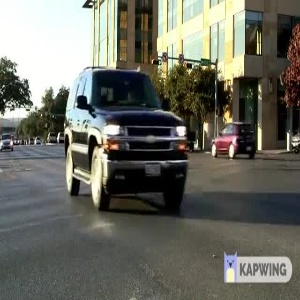car: (209, 117, 257, 162)
suv: (46, 63, 217, 228)
